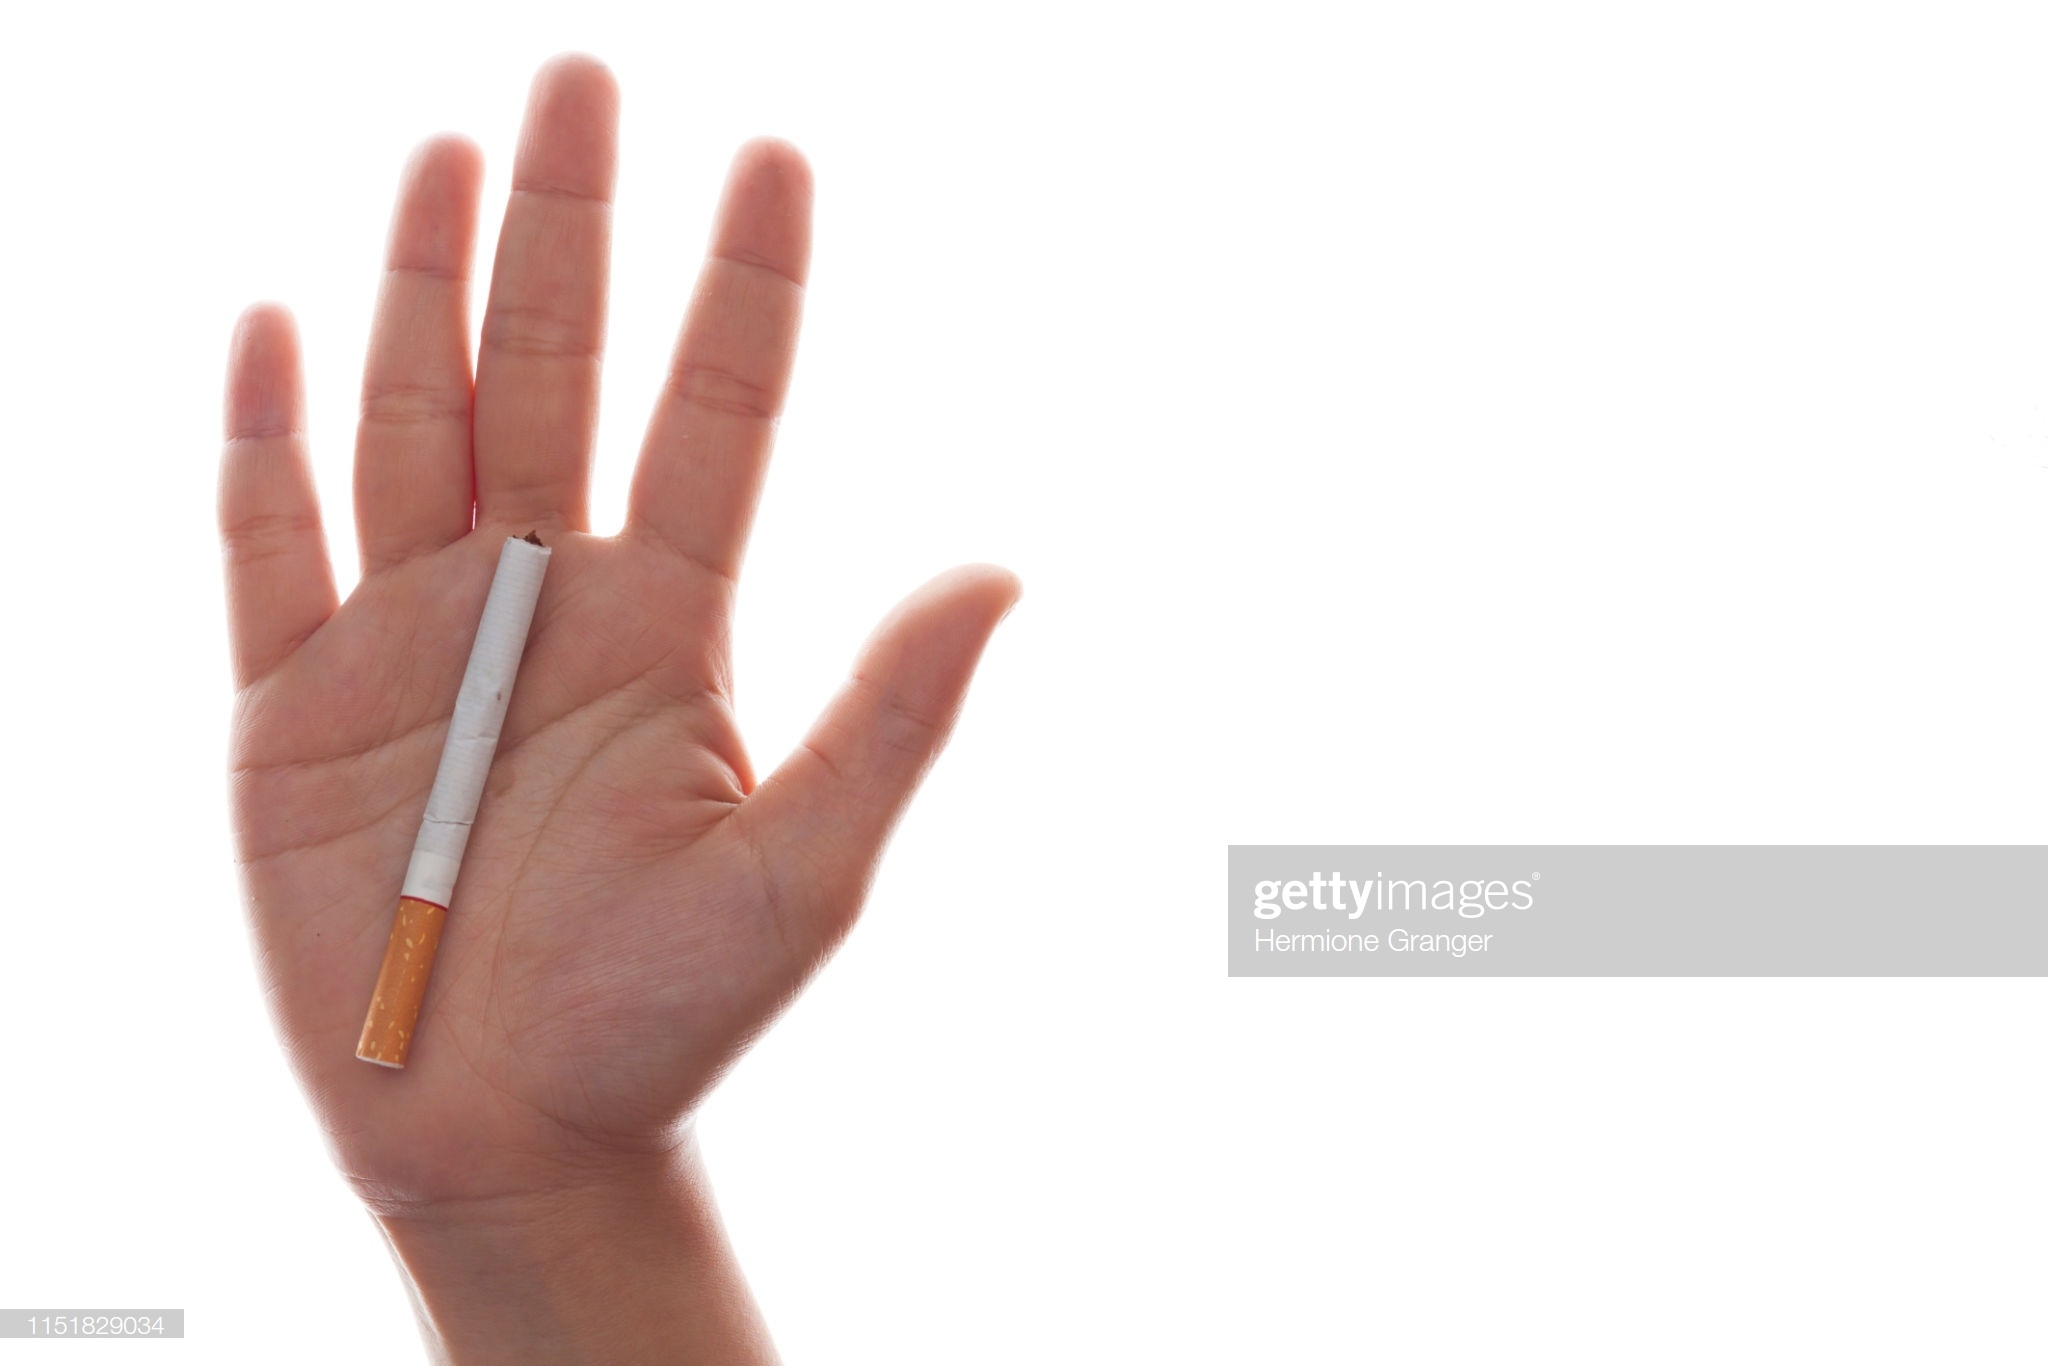sigaretta: (340, 535, 547, 1089)
